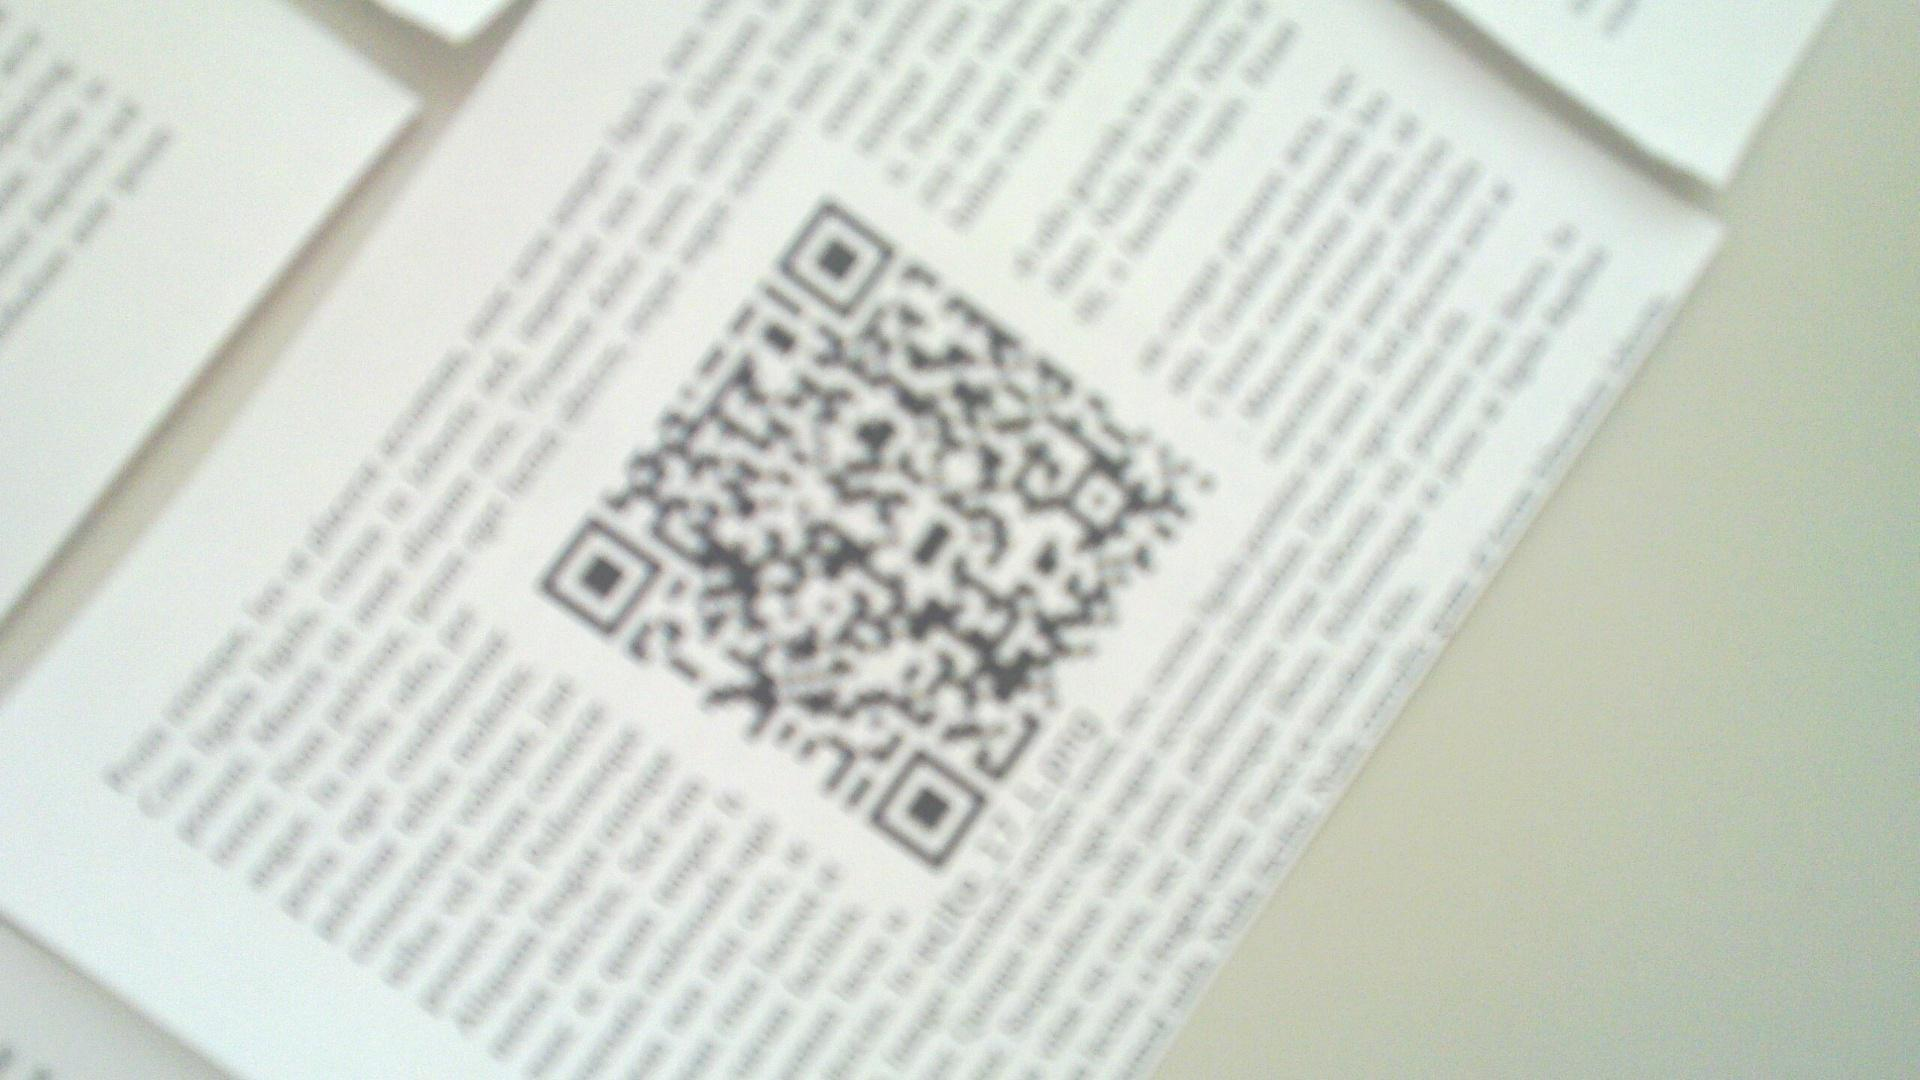Finder pattern: (769, 200, 898, 316), (869, 746, 986, 872), (537, 518, 658, 636)
